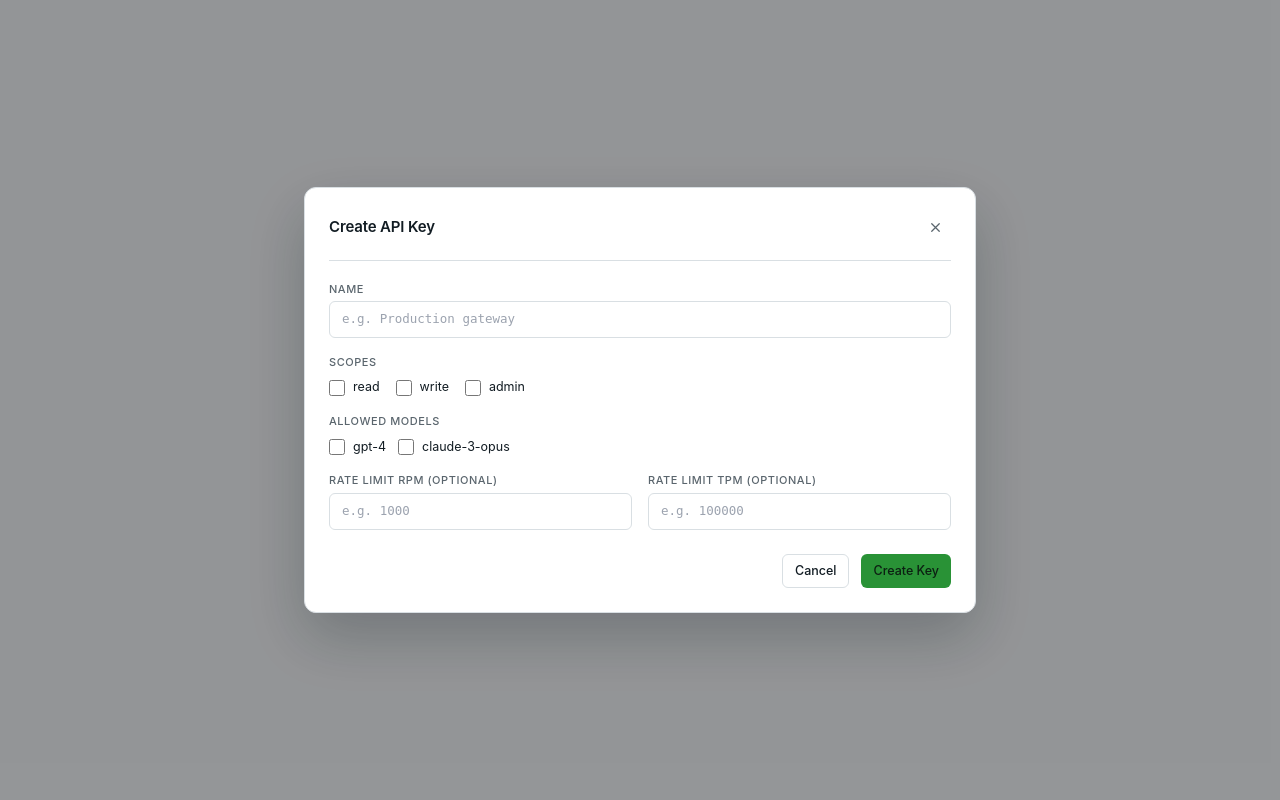
KeyForm › shows the full key once with warning after creation
Type "Prod Key" into the field labelled "Name" at (640, 320), box x1=329 y1=301 x2=951 y2=338
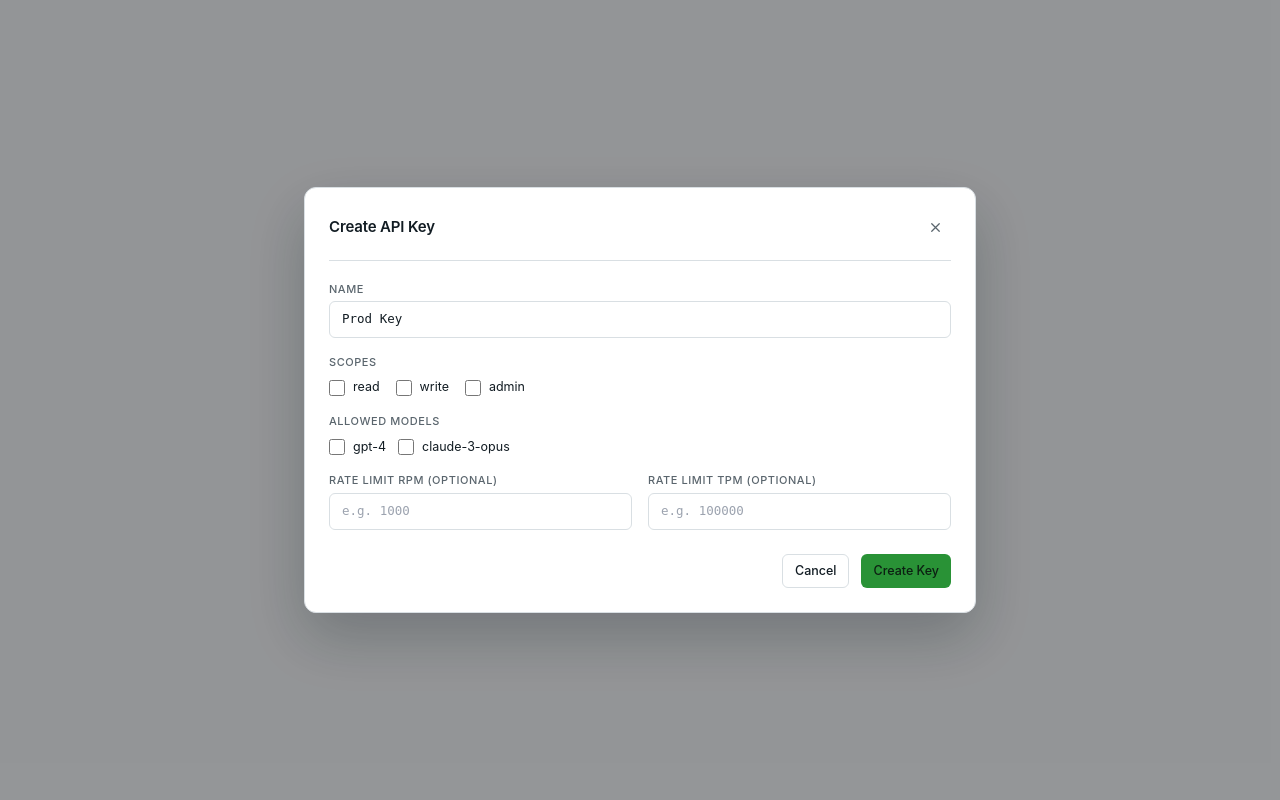
Click the button "Create Key" at (906, 571), box x1=862 y1=554 x2=951 y2=588
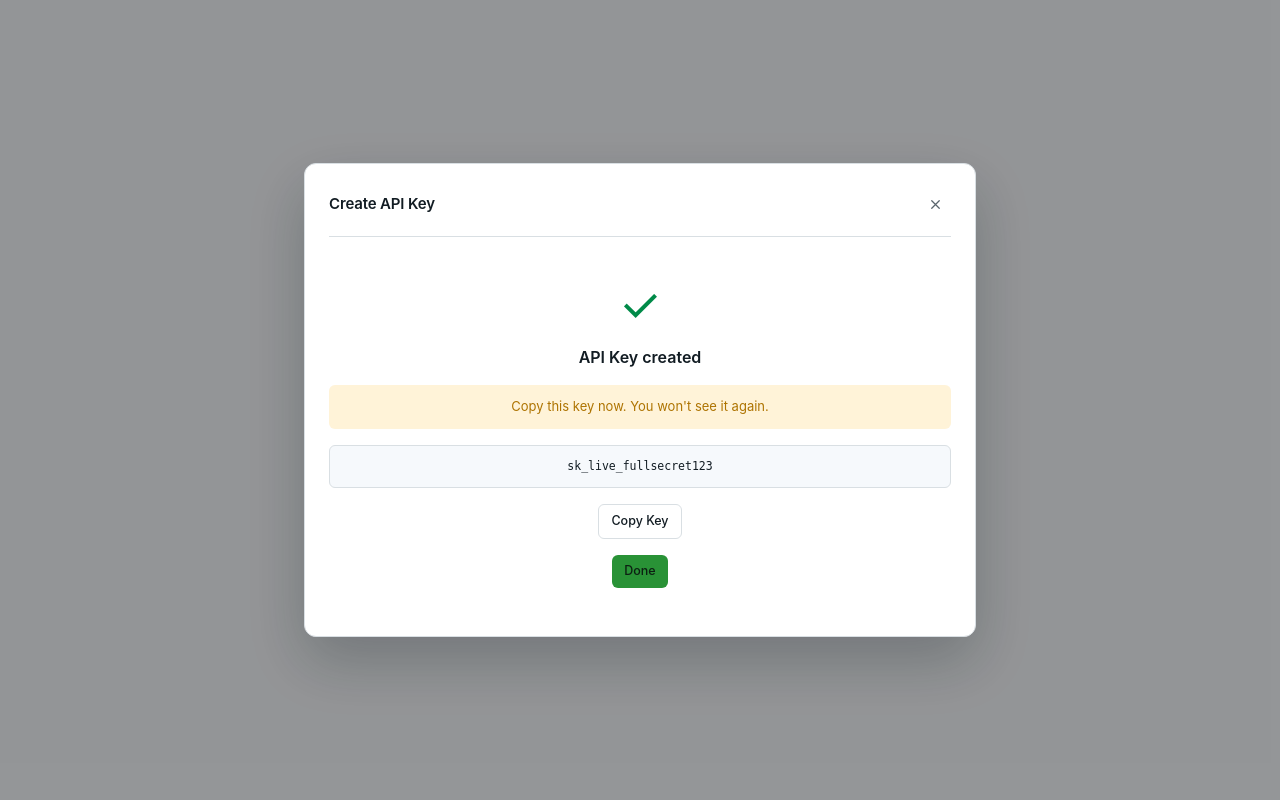
Expected: the text "sk_live_fullsecret123" is shown, x1=329 y1=445 x2=951 y2=488
Expected: the text "Copy this key now. You won't see it again." is shown, x1=329 y1=385 x2=951 y2=429
